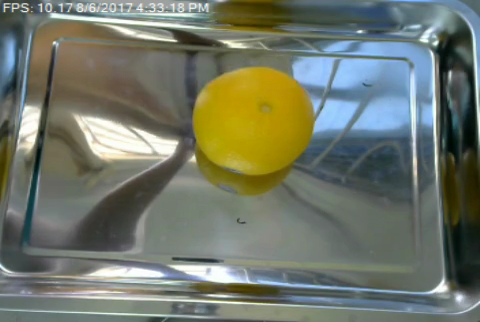Orange: (192, 67, 316, 174)
